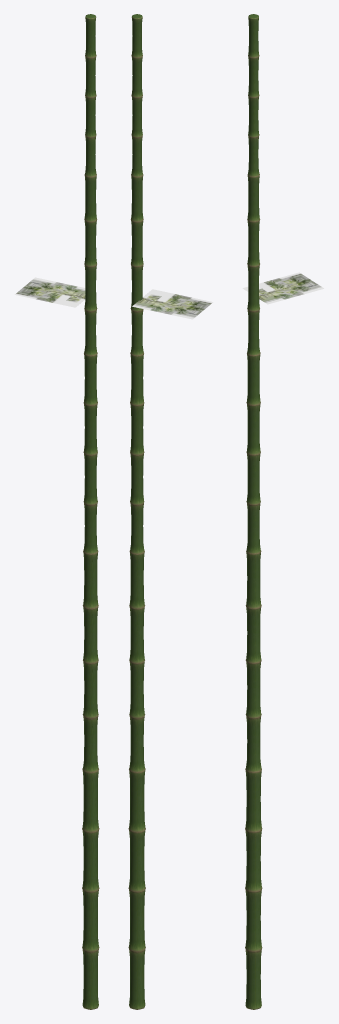
Rendered from bamboo7.fbx.
3 views of the same model, side by side, from view 1: azimuth 30°, elevation 25°; view 2: azimuth 210°, elevation 25°; view 3: azimuth 270°, elevation 25° (orthographic).
Visible parts, largest first — view 1: polySurface1; view 2: polySurface1; view 3: polySurface1.
Boxes of the visible parts, x1,y1,x2,y2 form: polySurface1: (14,14,99,1009); polySurface1: (128,14,213,1009); polySurface1: (242,14,323,1009).
Bounding box in the file's own units: 33.44 × 480 × 36.21.
2 materials, 2 textured.
